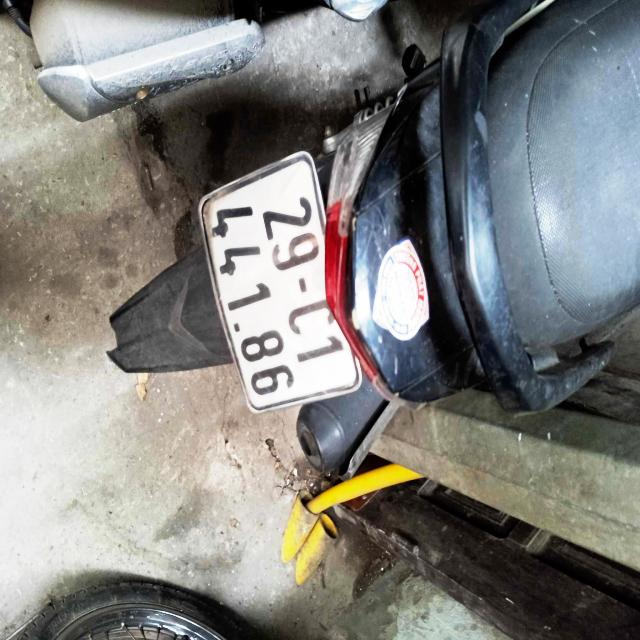license_plate: (197, 148, 366, 420)
